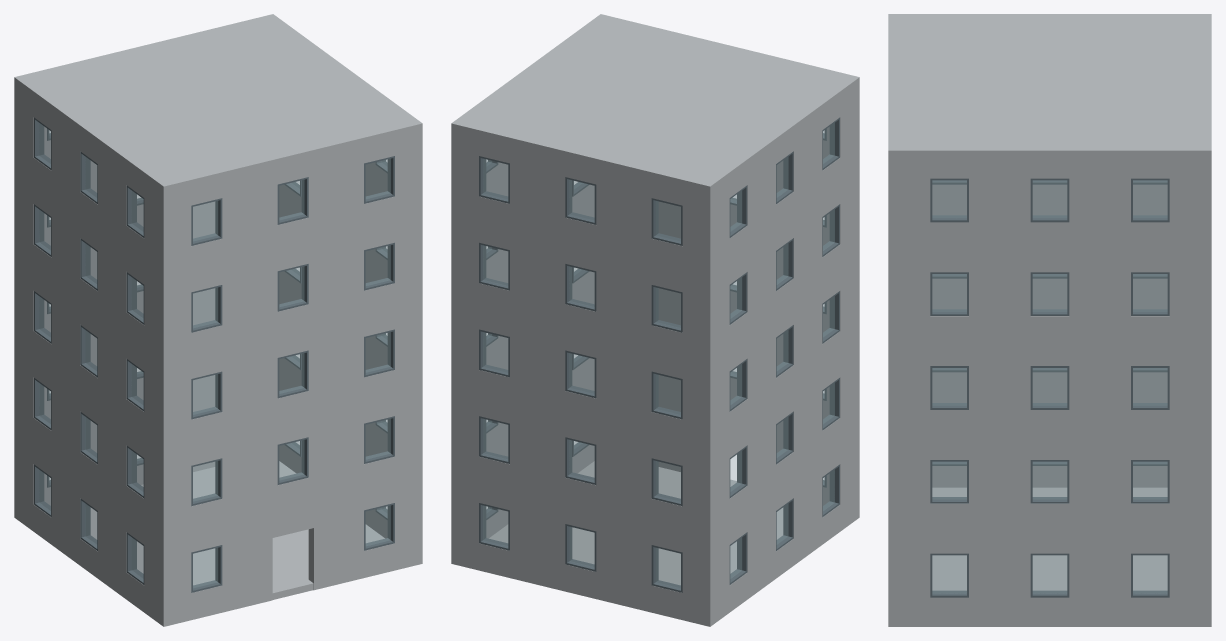
Rendered from block_5_lod1.glb.
3 renders of one model, left to right at view 1: azimuth 30°, elevation 25°; view 2: azimuth 150°, elevation 25°; view 3: azimuth 270°, elevation 25°, orthographic. The views are drawn at different scales.
Visible parts, largest first — view 1: Wall_0 baked, Wall_3 baked, Ceiling baked, Wall_1 baked, Wall_2 baked, Floor baked, Glazing.006 baked, Glazing.009 baked, Glazing.003 baked, Glazing.012 baked, Glazing.001 baked, Glazing.004 baked (+8 smaller); view 2: Wall_1 baked, Wall_3 baked, Ceiling baked, Wall_0 baked, Wall_2 baked, Floor baked, Glazing.015 baked, Glazing.018 baked, Glazing.021 baked, Glazing.024 baked, Glazing.027 baked, Glazing.016 baked (+9 smaller); view 3: Wall_2 baked, Ceiling baked, Wall_3 baked, Wall_0 baked, Wall_1 baked, Floor baked, Glazing.029 baked, Glazing.031 baked, Glazing.035 baked, Glazing.037 baked, Glazing.038 baked, Glazing.040 baked (+9 smaller).
Boxes of the visible parts, left/top/right/bottom form: Wall_0 baked: left=158, top=130, right=422, bottom=626; Wall_3 baked: left=19, top=88, right=158, bottom=622; Ceiling baked: left=14, top=14, right=422, bottom=193; Wall_1 baked: left=14, top=84, right=215, bottom=520; Wall_2 baked: left=279, top=162, right=387, bottom=538; Floor baked: left=90, top=461, right=384, bottom=599; Glazing.006 baked: left=279, top=353, right=304, bottom=393; Glazing.009 baked: left=279, top=267, right=304, bottom=306; Glazing.003 baked: left=279, top=440, right=304, bottom=479; Glazing.012 baked: left=279, top=180, right=304, bottom=219; Glazing.001 baked: left=366, top=506, right=390, bottom=545; Glazing.004 baked: left=366, top=419, right=390, bottom=459; Wall_1 baked: left=451, top=130, right=715, bottom=626; Wall_3 baked: left=715, top=88, right=854, bottom=622; Ceiling baked: left=451, top=14, right=859, bottom=193; Wall_0 baked: left=658, top=84, right=859, bottom=520; Wall_2 baked: left=486, top=162, right=594, bottom=538; Floor baked: left=489, top=461, right=783, bottom=585; Glazing.015 baked: left=569, top=527, right=594, bottom=566; Glazing.018 baked: left=569, top=440, right=594, bottom=480; Glazing.021 baked: left=569, top=353, right=594, bottom=393; Glazing.024 baked: left=569, top=267, right=594, bottom=306; Glazing.027 baked: left=569, top=180, right=594, bottom=219; Glazing.016 baked: left=656, top=548, right=680, bottom=587; Wall_2 baked: left=899, top=158, right=1200, bottom=626; Ceiling baked: left=888, top=14, right=1211, bottom=157; Wall_3 baked: left=932, top=184, right=1167, bottom=487; Wall_0 baked: left=888, top=158, right=899, bottom=626; Wall_1 baked: left=1200, top=158, right=1211, bottom=626; Floor baked: left=932, top=487, right=1167, bottom=590; Glazing.029 baked: left=932, top=555, right=966, bottom=593; Glazing.031 baked: left=1133, top=555, right=1167, bottom=593; Glazing.035 baked: left=932, top=368, right=966, bottom=405; Glazing.037 baked: left=1133, top=368, right=1167, bottom=405; Glazing.038 baked: left=932, top=274, right=966, bottom=311; Glazing.040 baked: left=1133, top=274, right=1167, bottom=311.
Size of the model in its own units: 10 by 16.25 by 10.
